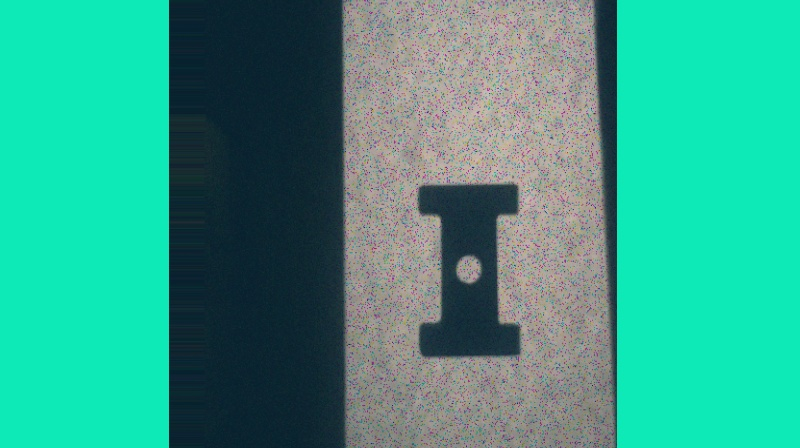O002: (414, 177, 520, 359)
